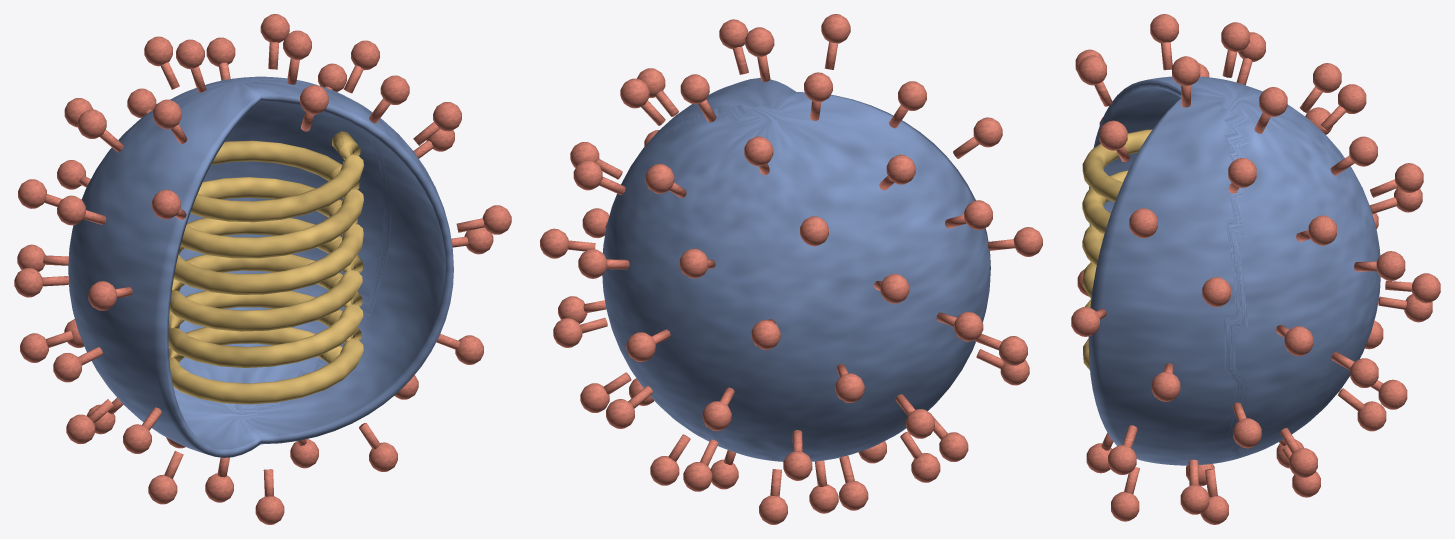
File: cutaway.glb
3 renders of one model, left to right at view 1: azimuth 30°, elevation 25°; view 2: azimuth 150°, elevation 25°; view 3: azimuth 270°, elevation 25°, orthographic.
Visible parts, largest first — view 1: envelope_mesh, nucleocapsideo_mesh, espiculas_mesh; view 2: envelope_mesh, espiculas_mesh; view 3: envelope_mesh, espiculas_mesh, nucleocapsideo_mesh.
Part boxes in pixels (x1,y1,x2,y2): envelope_mesh: (68, 76, 453, 457); nucleocapsideo_mesh: (168, 131, 363, 404); espiculas_mesh: (14, 14, 511, 524); envelope_mesh: (602, 78, 990, 461); espiculas_mesh: (540, 14, 1042, 524); envelope_mesh: (1088, 76, 1380, 465); espiculas_mesh: (1071, 14, 1440, 524); nucleocapsideo_mesh: (1082, 129, 1152, 369).
Size of the model in its own units: 2.62 by 2.62 by 1.89.
Materials: 3 (3 with a texture image).
